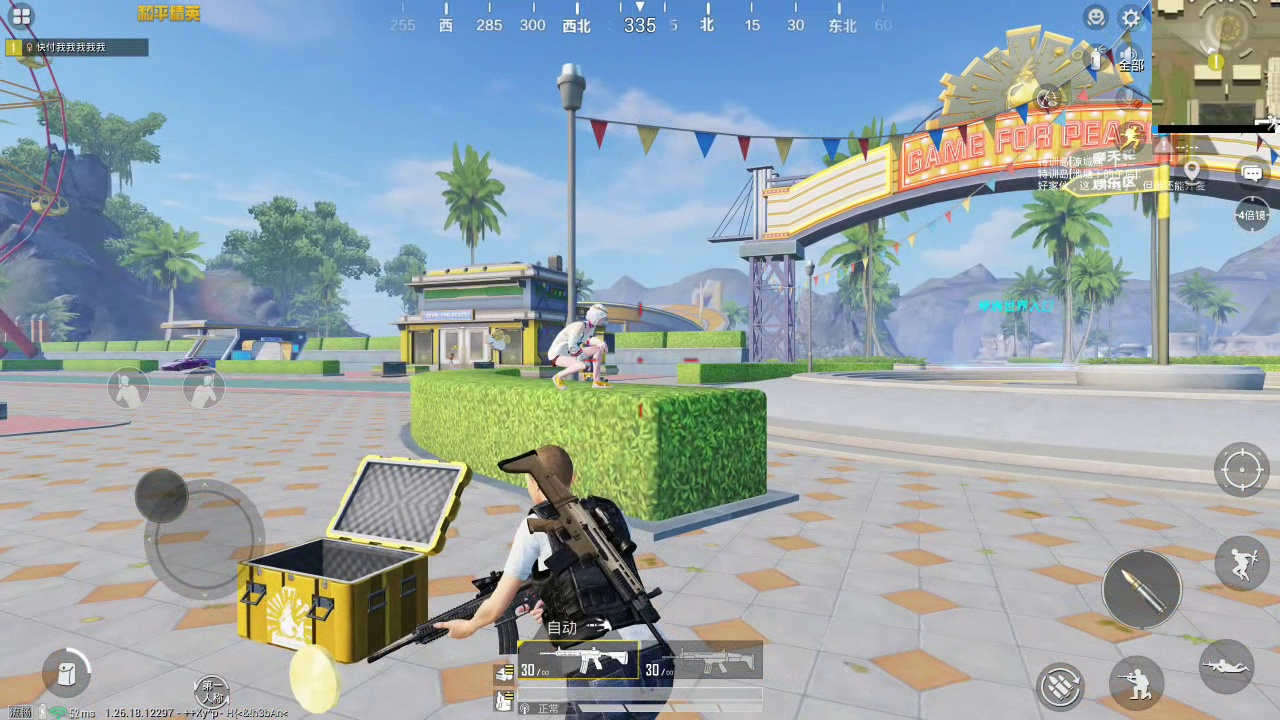enemy: (548, 301, 607, 386)
